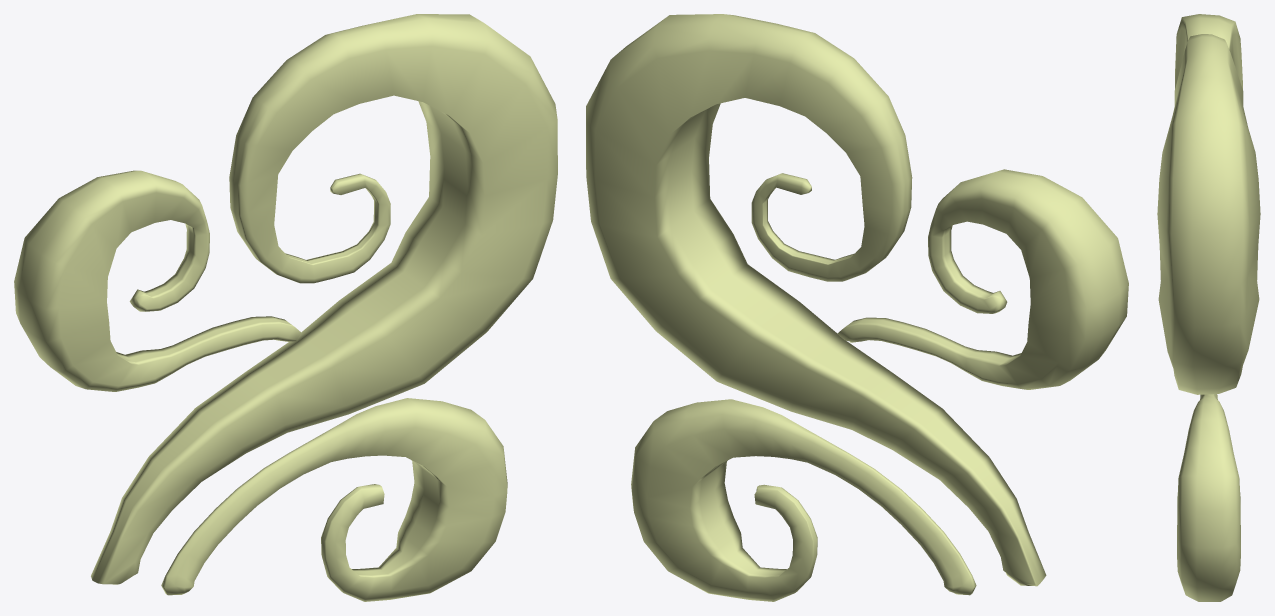
The model's file is SM_WindIcon.fbx.
The picture shows the model from 3 angles, left to right: view 1: azimuth 30°, elevation 25°; view 2: azimuth 150°, elevation 25°; view 3: azimuth 270°, elevation 25°; orthographic projection. The views are drawn at different scales.
Parts seen in each view (by area): view 1: WindMesh; view 2: WindMesh; view 3: WindMesh.
Part boxes in pixels (box(x1,y1,x2,y2)): WindMesh: box(14, 14, 557, 601); WindMesh: box(586, 14, 1128, 601); WindMesh: box(1157, 14, 1260, 601).
Bounding box in the file's own units: 292 × 309 × 55.17.
